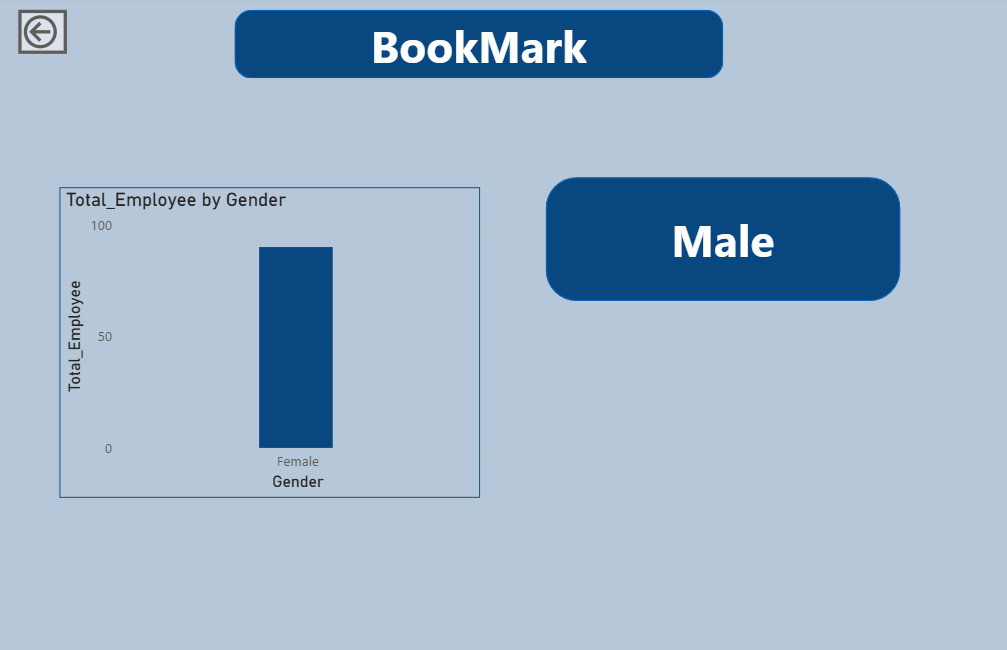

What the dashboard file says about the page in this screenshot:
{"tool":"powerbi","page":{"name":"Bookmark","canvas":[1280,720],"ordinal":4},"visuals":[{"type":"columnChart","fields":{"Category":["Sheet1.Gender"],"Y":["Sheet1.M_Total_Employee"]},"box":[61.7,79.6,378.7,279.9],"z":0},{"type":"shape","box":[499.5,79.6,319.7,111.1],"z":2000},{"type":"actionButton","box":[23.3,12.3,43.9,39.8],"z":4000}]}

Visuals, with their boxes on the page's 1280x720 design canvas (x1, y1, x2, y2). These are canvas units, not pixel positions in the 1007x650 screenshot, which may show the page scaled, cropped or inside an application window:
columnChart - Sheet1.Gender x Sheet1.M_Total_Employee: [left=62, top=80, right=440, bottom=360]
shape: [left=500, top=80, right=819, bottom=191]
actionButton: [left=23, top=12, right=67, bottom=52]
